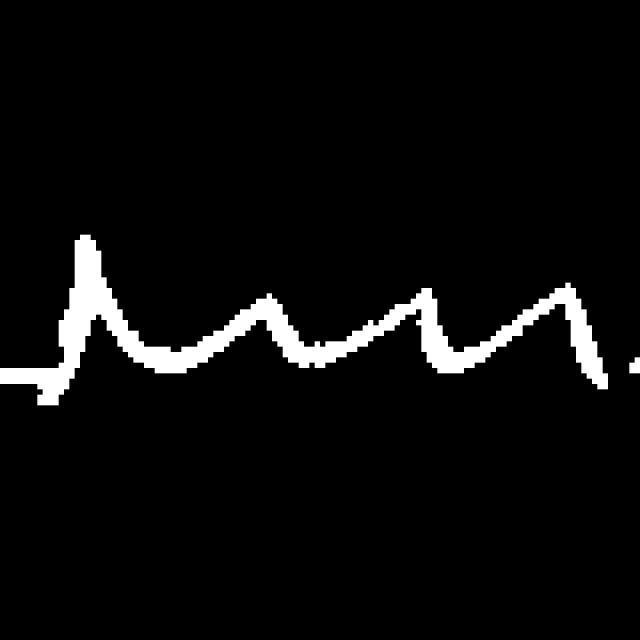resistor: (35, 204, 609, 434)
